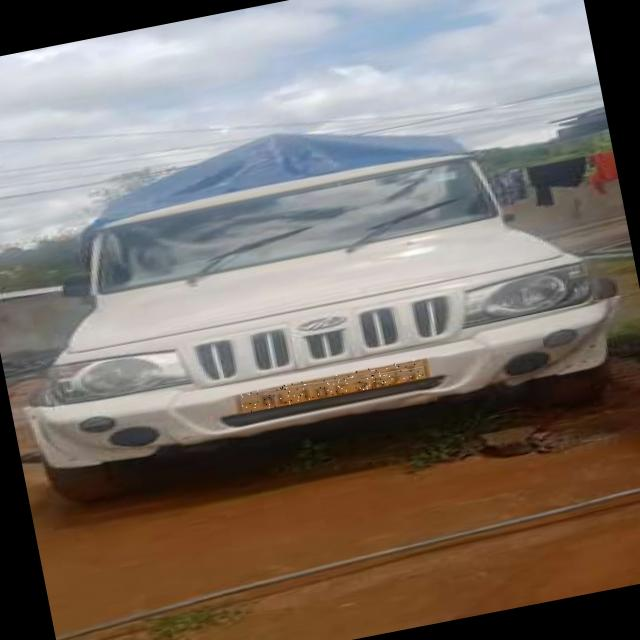Plate: (236, 359, 427, 415)
